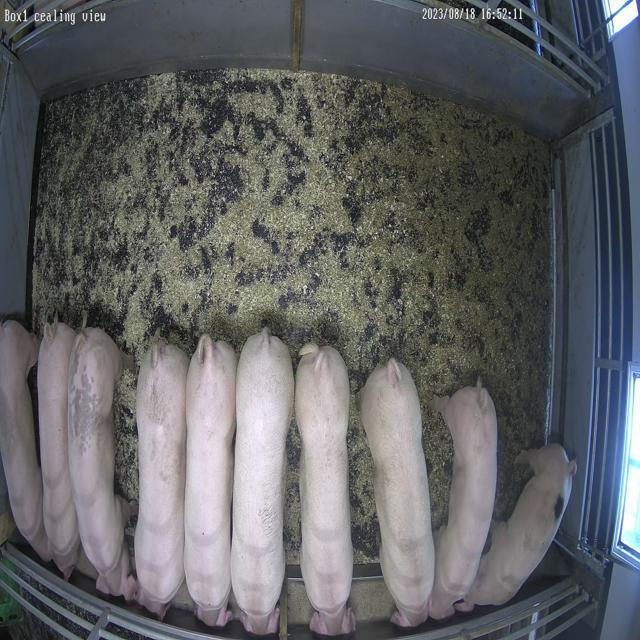Dirt: (33, 69, 552, 563)
Pig: (362, 359, 435, 629), (231, 328, 294, 636), (67, 328, 134, 600), (295, 344, 356, 638), (430, 381, 498, 620), (184, 335, 237, 628), (134, 339, 188, 618), (0, 321, 48, 562), (38, 321, 80, 580)
